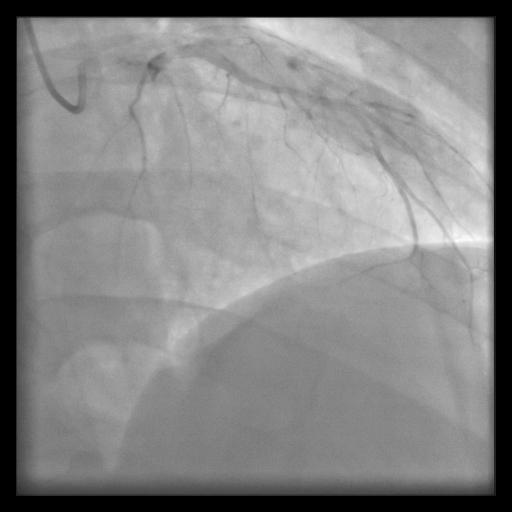Stenosis: (130, 52, 162, 81)
